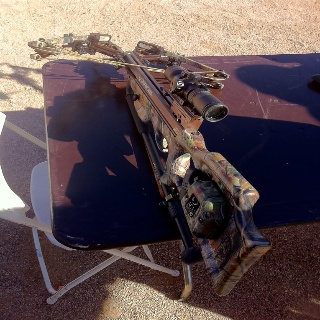rifle: (119, 51, 271, 303)
